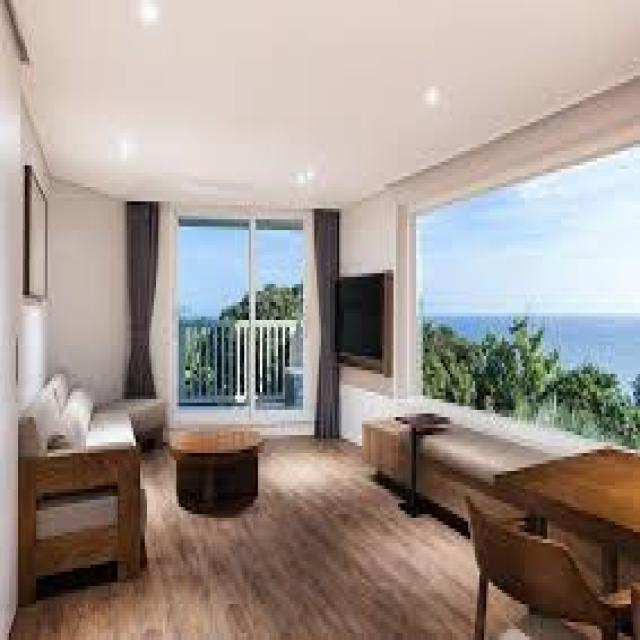Chair: (461, 490, 633, 640)
Sofa: (18, 367, 168, 597)
Table: (170, 416, 268, 511)
tv: (330, 271, 393, 374)
window: (405, 169, 640, 421), (136, 214, 306, 368)
